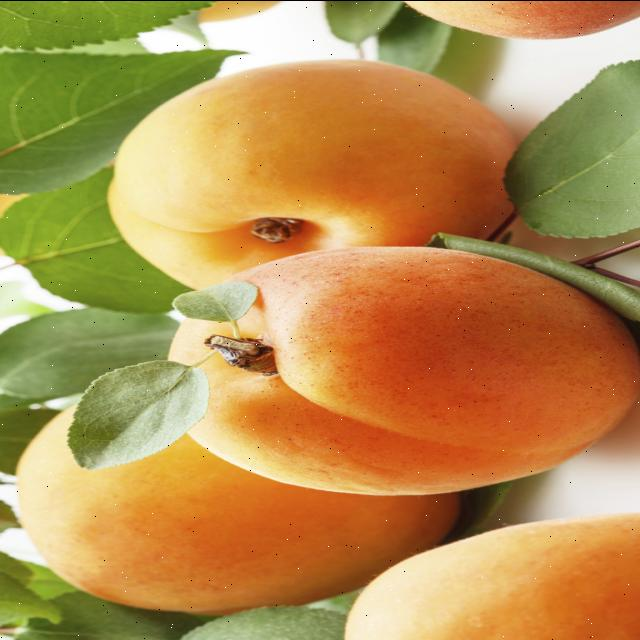Kayisi: (189, 246, 639, 493), (109, 59, 516, 288)
Yaprak: (0, 49, 237, 193), (68, 359, 208, 469)
